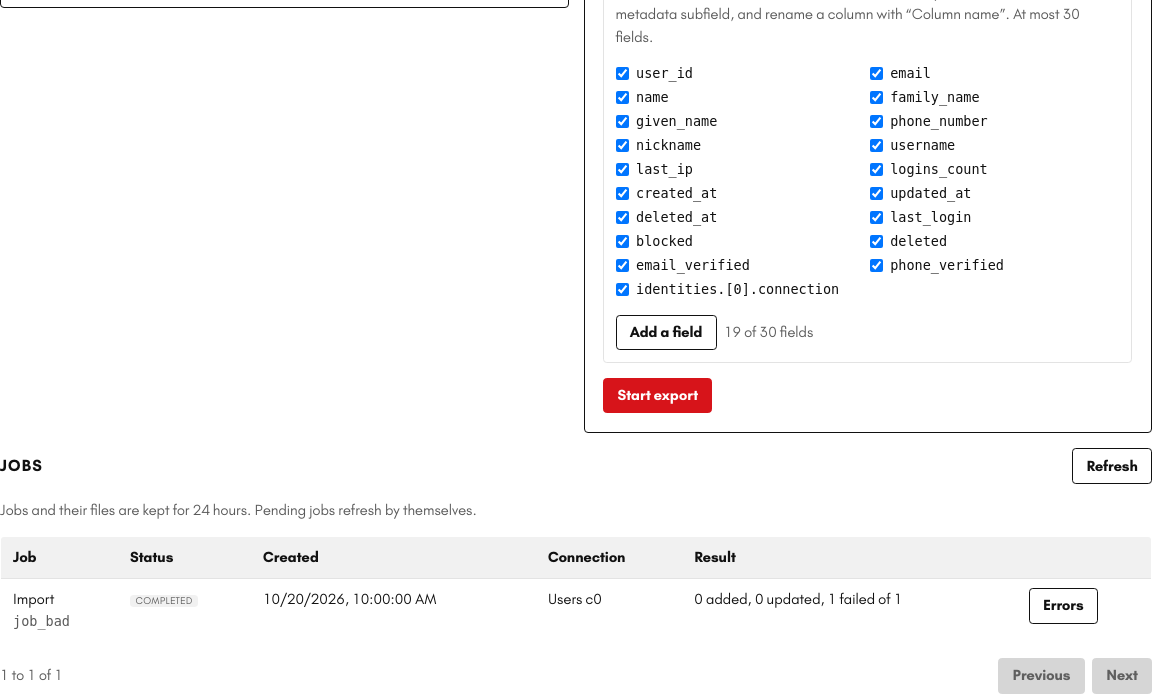
Test: errors view › lists the records with their codes, messages and paths, exactly as masked by the server
(page scrolled)
Click the button "Errors" at (1063, 606), box [1029,588,1098,624]
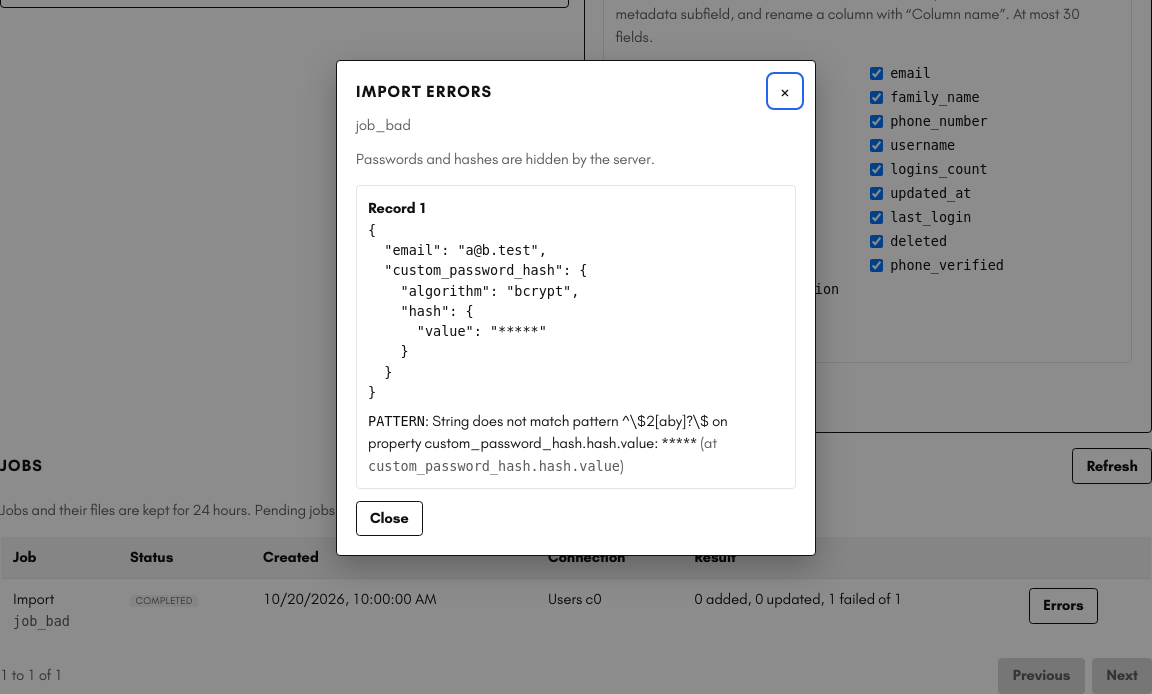
Check: the dialog shows "PATTERN", box [368,413,425,429]
Check: the dialog shows "custom_password_hash.hash.value", box [368,458,620,474]
Check: the dialog shows "*****", box [368,222,588,400]
